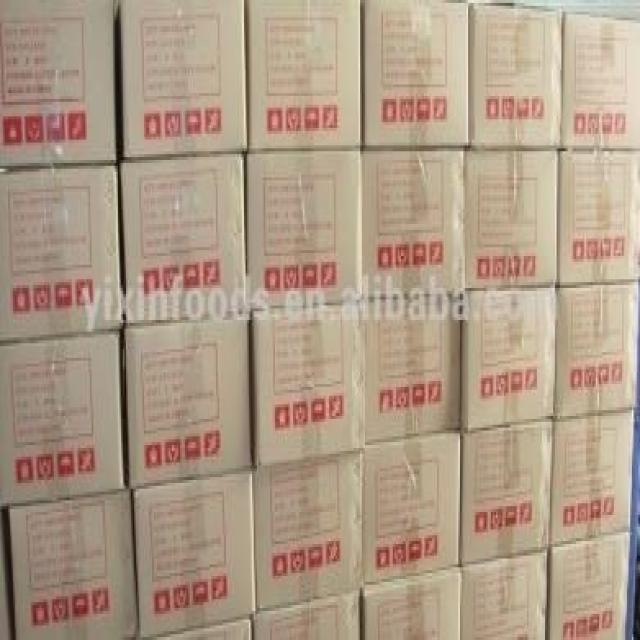box: (123, 313, 252, 487), (1, 160, 123, 342), (117, 152, 247, 322), (1, 330, 124, 507), (115, 0, 248, 156), (134, 471, 256, 637), (0, 2, 116, 168), (250, 302, 366, 468), (9, 488, 139, 636), (244, 149, 364, 307), (254, 449, 364, 610), (246, 2, 364, 148), (361, 2, 469, 148), (364, 431, 462, 587), (364, 147, 467, 295), (365, 295, 464, 445), (460, 417, 555, 564), (467, 4, 563, 149), (461, 290, 558, 430), (467, 145, 558, 288), (550, 410, 634, 546), (557, 149, 638, 286), (560, 9, 638, 148), (556, 282, 637, 415), (548, 533, 627, 636), (458, 549, 549, 637), (361, 567, 459, 637), (253, 590, 362, 637), (143, 612, 254, 637)
